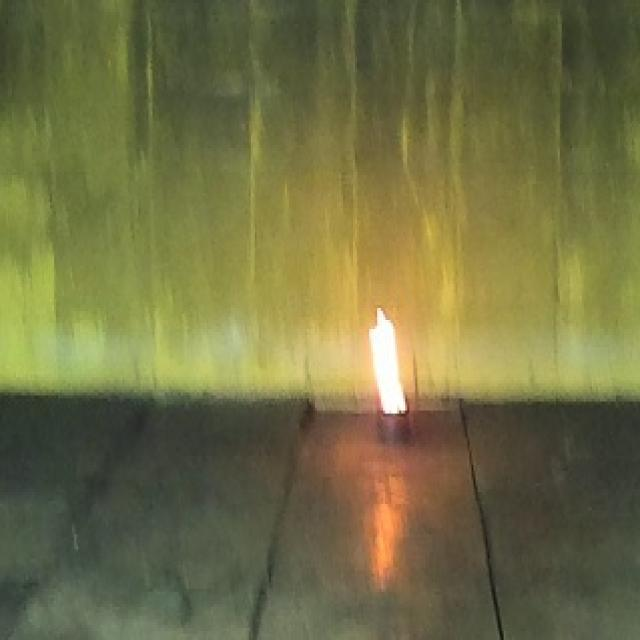Fire: (370, 306, 408, 414)
